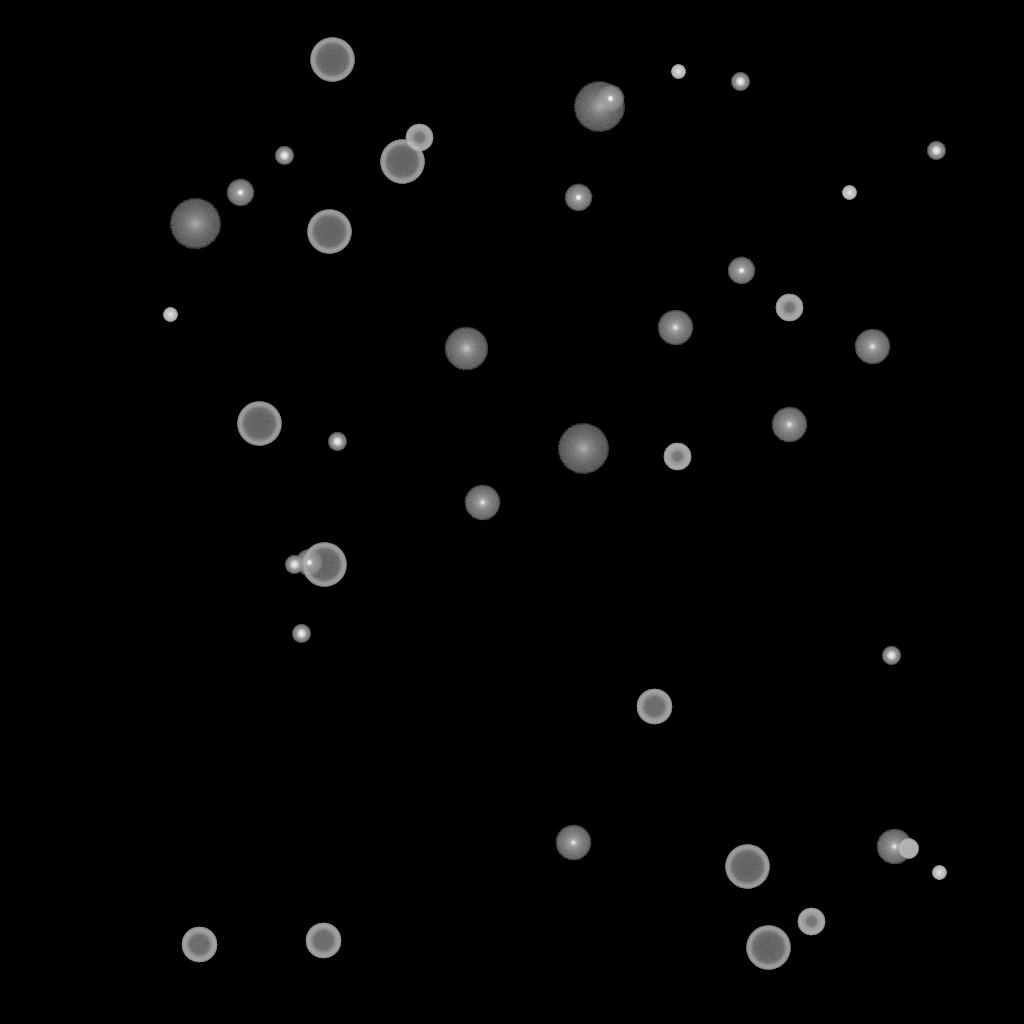depth:-10: (226, 179, 254, 207), (727, 257, 755, 285), (596, 85, 624, 113), (295, 549, 323, 577), (564, 184, 592, 212)
depth:-20: (275, 147, 293, 165), (328, 433, 346, 451), (285, 556, 303, 574), (927, 142, 945, 160), (882, 647, 900, 665), (292, 625, 310, 643), (731, 73, 749, 91)
depth:-30: (163, 308, 177, 322), (842, 186, 856, 200), (671, 65, 685, 79), (932, 866, 946, 880)
depth:-40: (898, 839, 918, 859)
depth:-50: (797, 908, 825, 936), (775, 294, 803, 322), (663, 443, 691, 471), (405, 124, 433, 152)
depth:-60: (636, 689, 672, 725), (181, 927, 217, 963), (305, 923, 341, 959)
depth:-70: (746, 926, 790, 970), (380, 140, 424, 184), (310, 38, 354, 82), (725, 845, 769, 889), (302, 543, 346, 587), (237, 402, 281, 446), (307, 210, 351, 254)
depth:0: (854, 329, 890, 365), (555, 825, 591, 861), (771, 407, 807, 443), (657, 310, 693, 346), (876, 829, 912, 865), (464, 485, 500, 521)
depth:10: (444, 327, 488, 371)
depth:20: (573, 82, 625, 132), (169, 199, 221, 249), (557, 424, 609, 474)
